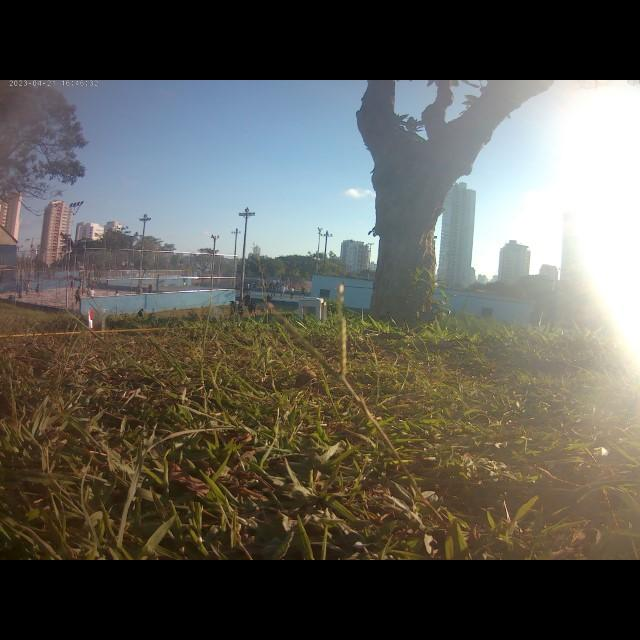arvore: (351, 80, 557, 324)
